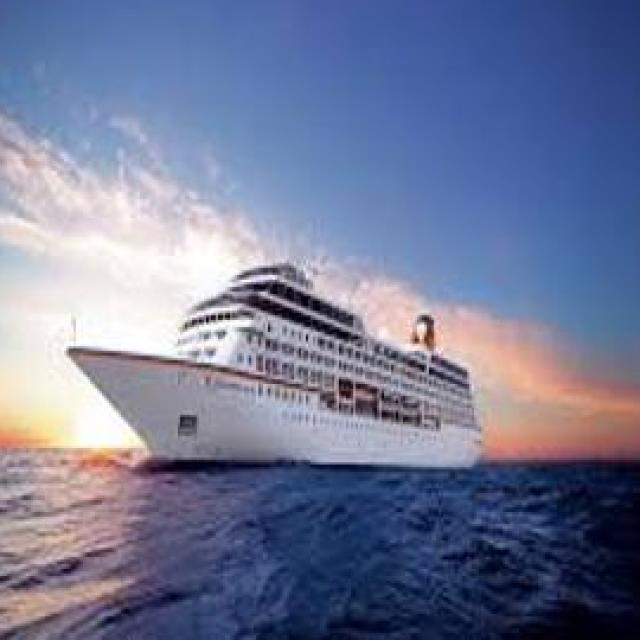passenger ship: (64, 250, 485, 474)
